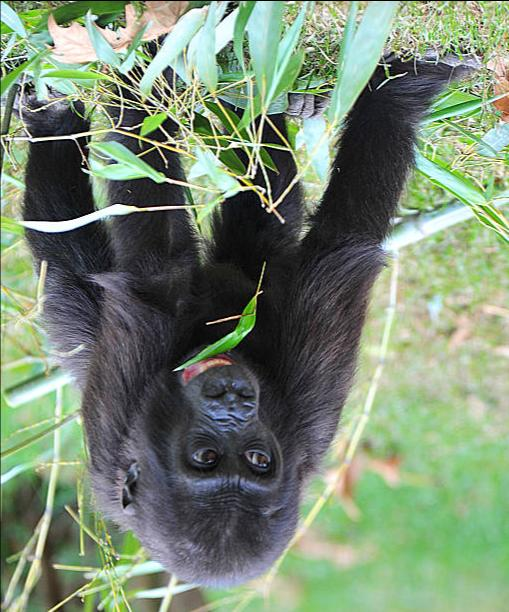gorille_Autres: (0, 49, 454, 586)
